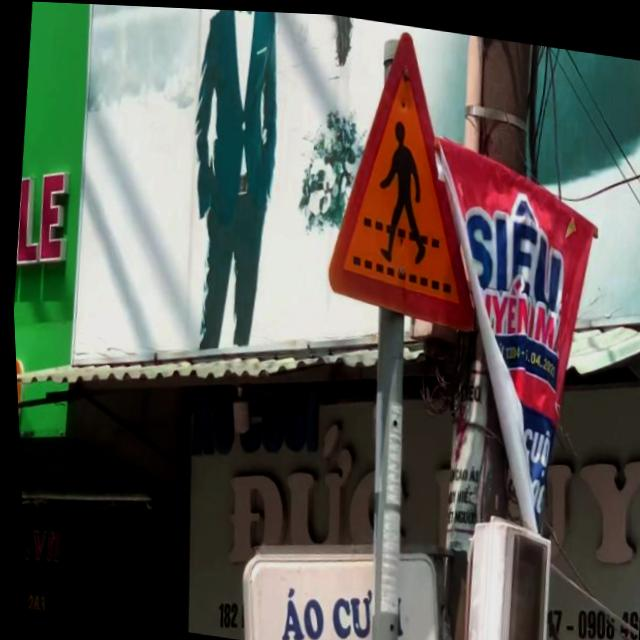Nguoi di bo cat ngang: (307, 11, 506, 340)
